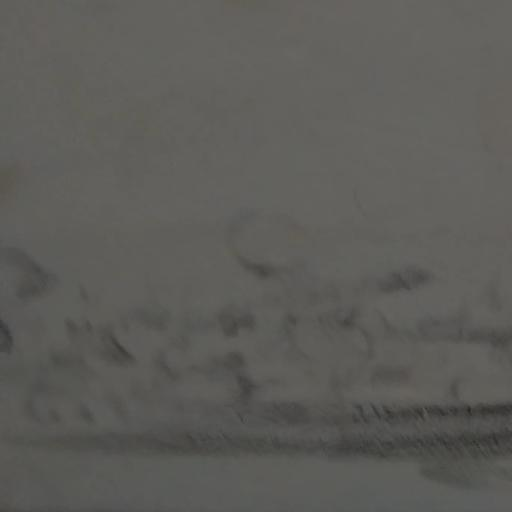stain: (3, 216, 512, 489)
